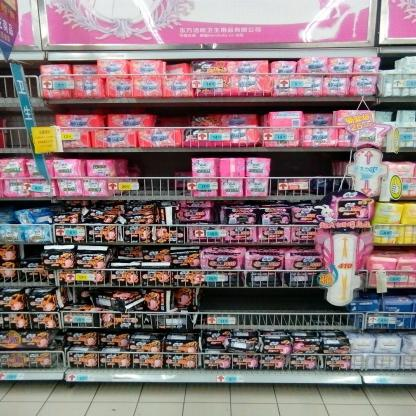Void: (201, 287, 350, 323), (276, 155, 343, 194), (131, 155, 189, 193), (154, 109, 192, 126)
